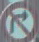Don't turn right: (0, 2, 37, 40)
